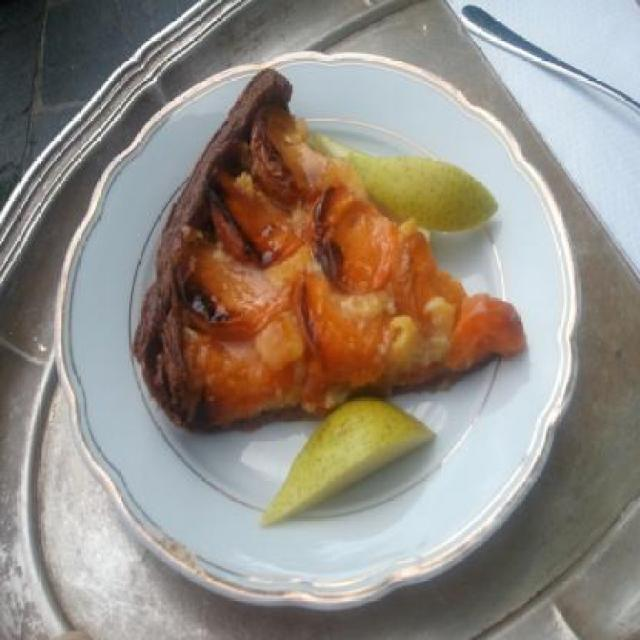Pear: (258, 397, 437, 528), (308, 132, 502, 236)
